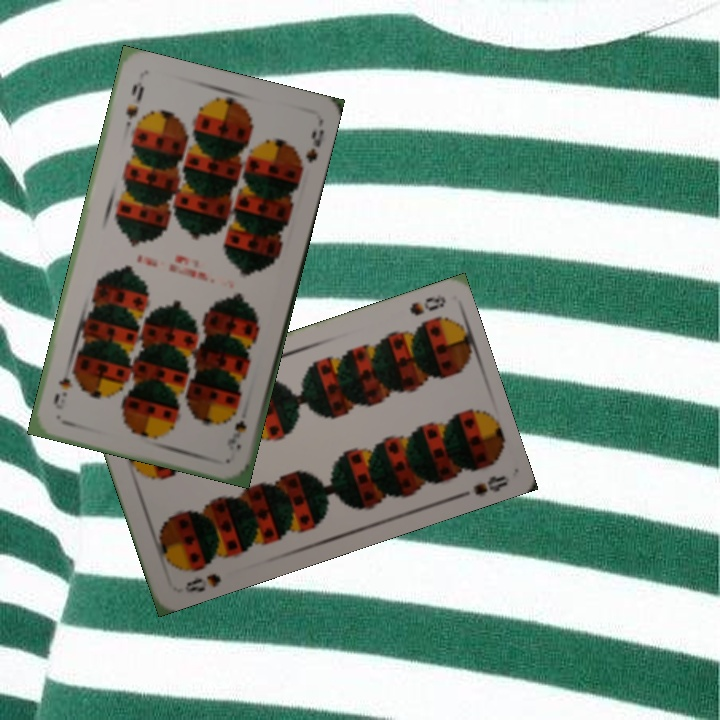S8: (405, 290, 448, 319), (180, 569, 224, 595)
S9: (121, 80, 147, 122), (223, 416, 250, 453)
